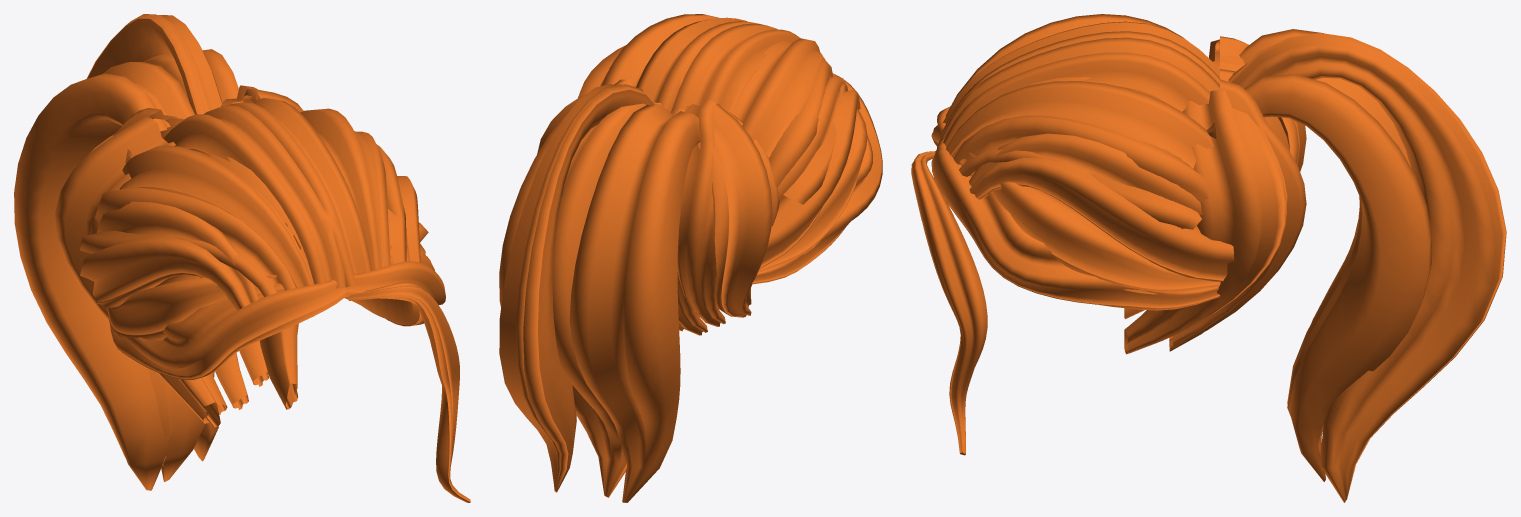
The model's file is Hair_Tail.fbx.
3 views of the same model, side by side, from view 1: azimuth 30°, elevation 25°; view 2: azimuth 150°, elevation 25°; view 3: azimuth 270°, elevation 25° (orthographic). The views are drawn at different scales.
Parts seen in each view (by area): view 1: Hair_Sport; view 2: Hair_Sport; view 3: Hair_Sport.
Boxes of the visible parts, <box> form: Hair_Sport: <box>14,14,470,502</box>; Hair_Sport: <box>499,14,882,502</box>; Hair_Sport: <box>911,14,1506,502</box>.
Bounding box in the file's own units: 34.23 × 51.2 × 61.02.
